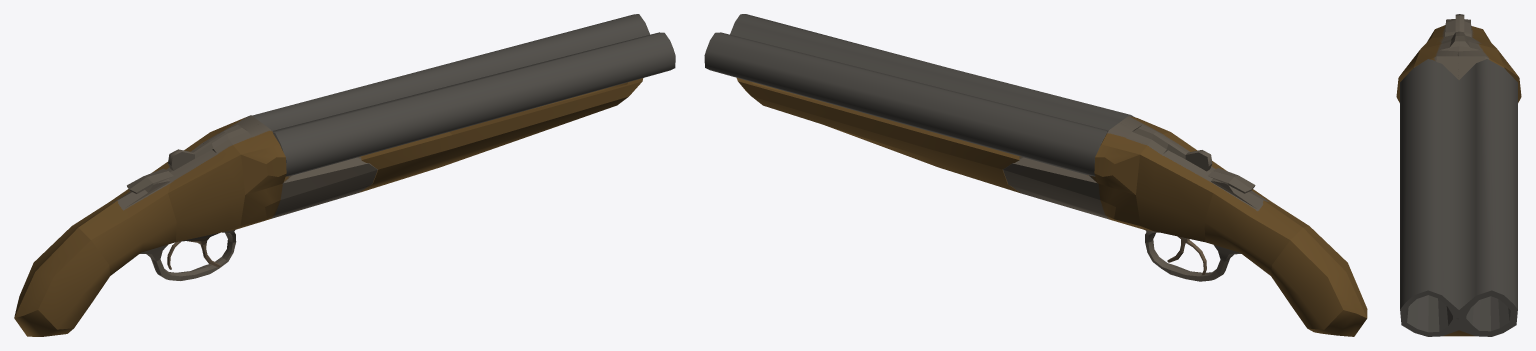
File: Shotgun.obj
3 renders of one model, left to right at view 1: azimuth 30°, elevation 25°; view 2: azimuth 150°, elevation 25°; view 3: azimuth 270°, elevation 25°, orthographic. The views are drawn at different scales.
Visible parts, largest first — view 1: polySurface3 polySurfaceShape6, polySurface3; view 2: polySurface3 polySurfaceShape6, polySurface3; view 3: polySurface3 polySurfaceShape6, polySurface3.
Part boxes in pixels (left/top/right/bottom): polySurface3 polySurfaceShape6: left=252, top=14, right=675, bottom=192; polySurface3: left=14, top=115, right=377, bottom=336; polySurface3 polySurfaceShape6: left=704, top=14, right=1135, bottom=193; polySurface3: left=1002, top=116, right=1367, bottom=336; polySurface3 polySurfaceShape6: left=1400, top=59, right=1517, bottom=336; polySurface3: left=1396, top=14, right=1521, bottom=102.
Size of the model in its own units: 22.53 by 5.58 by 3.05.
Materials: 1 (1 with a texture image).
